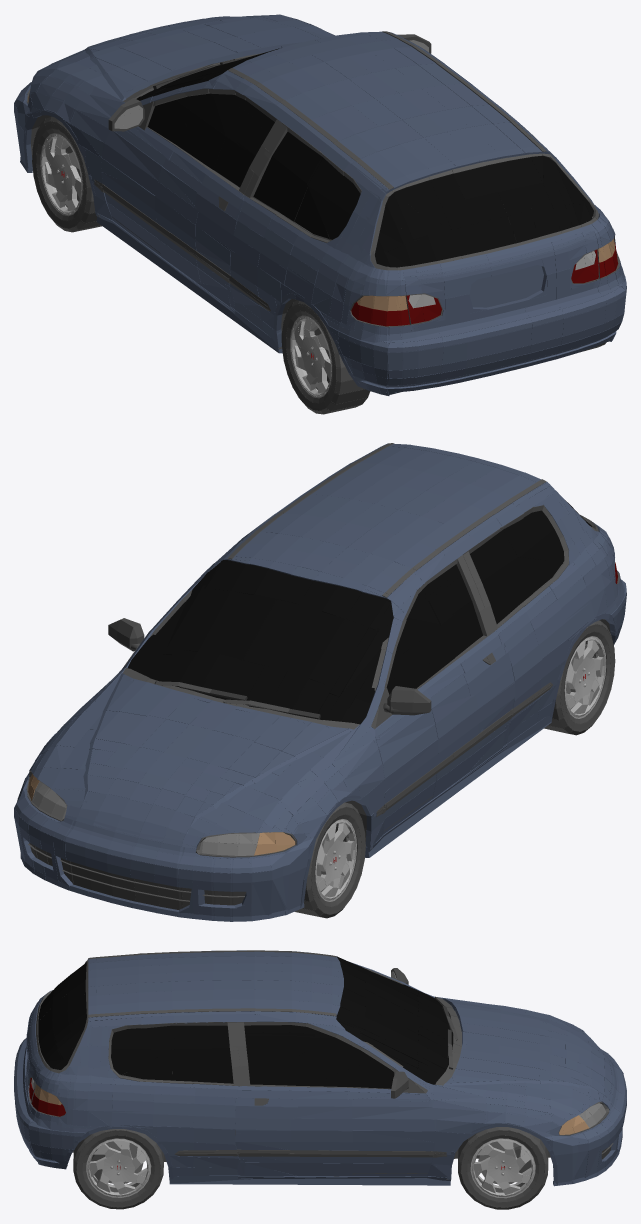
File: civiceg_lo.glb
3 views of the same model, one above another, from view 1: azimuth 30°, elevation 25°; view 2: azimuth 150°, elevation 25°; view 3: azimuth 270°, elevation 25° (orthographic). The views are drawn at different scales.
Visible parts, largest first — view 1: Object_3, Object_2, fusedwheel_1, fusedwheel_3; view 2: Object_3, fusedwheel_3, fusedwheel_1; view 3: Object_3, Object_4, Object_2, fusedwheel_2, fusedwheel_0.
Boxes of the visible parts, left/top/right/bottom form: Object_3: left=14, top=14, right=626, bottom=395; Object_2: left=294, top=153, right=600, bottom=331; fusedwheel_1: left=281, top=300, right=370, bottom=414; fusedwheel_3: left=32, top=116, right=101, bottom=232; Object_3: left=14, top=443, right=626, bottom=921; fusedwheel_3: left=294, top=802, right=365, bottom=918; fusedwheel_1: left=544, top=620, right=615, bottom=735; Object_3: left=14, top=950, right=626, bottom=1186; Object_4: left=235, top=1022, right=435, bottom=1176; Object_2: left=24, top=960, right=394, bottom=1106; fusedwheel_2: left=458, top=1127, right=548, bottom=1209; fusedwheel_0: left=73, top=1129, right=163, bottom=1209.
Size of the model in its own units: 1.9 by 1.34 by 4.07.
